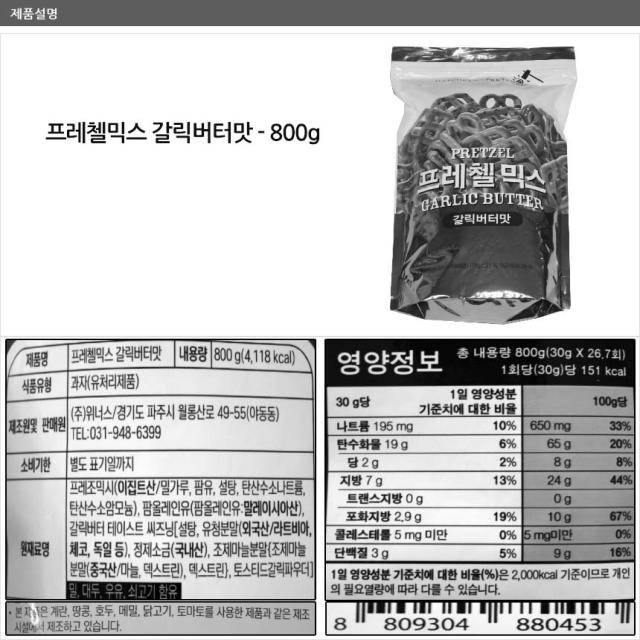Nutrition Label: (320, 332, 640, 570)
